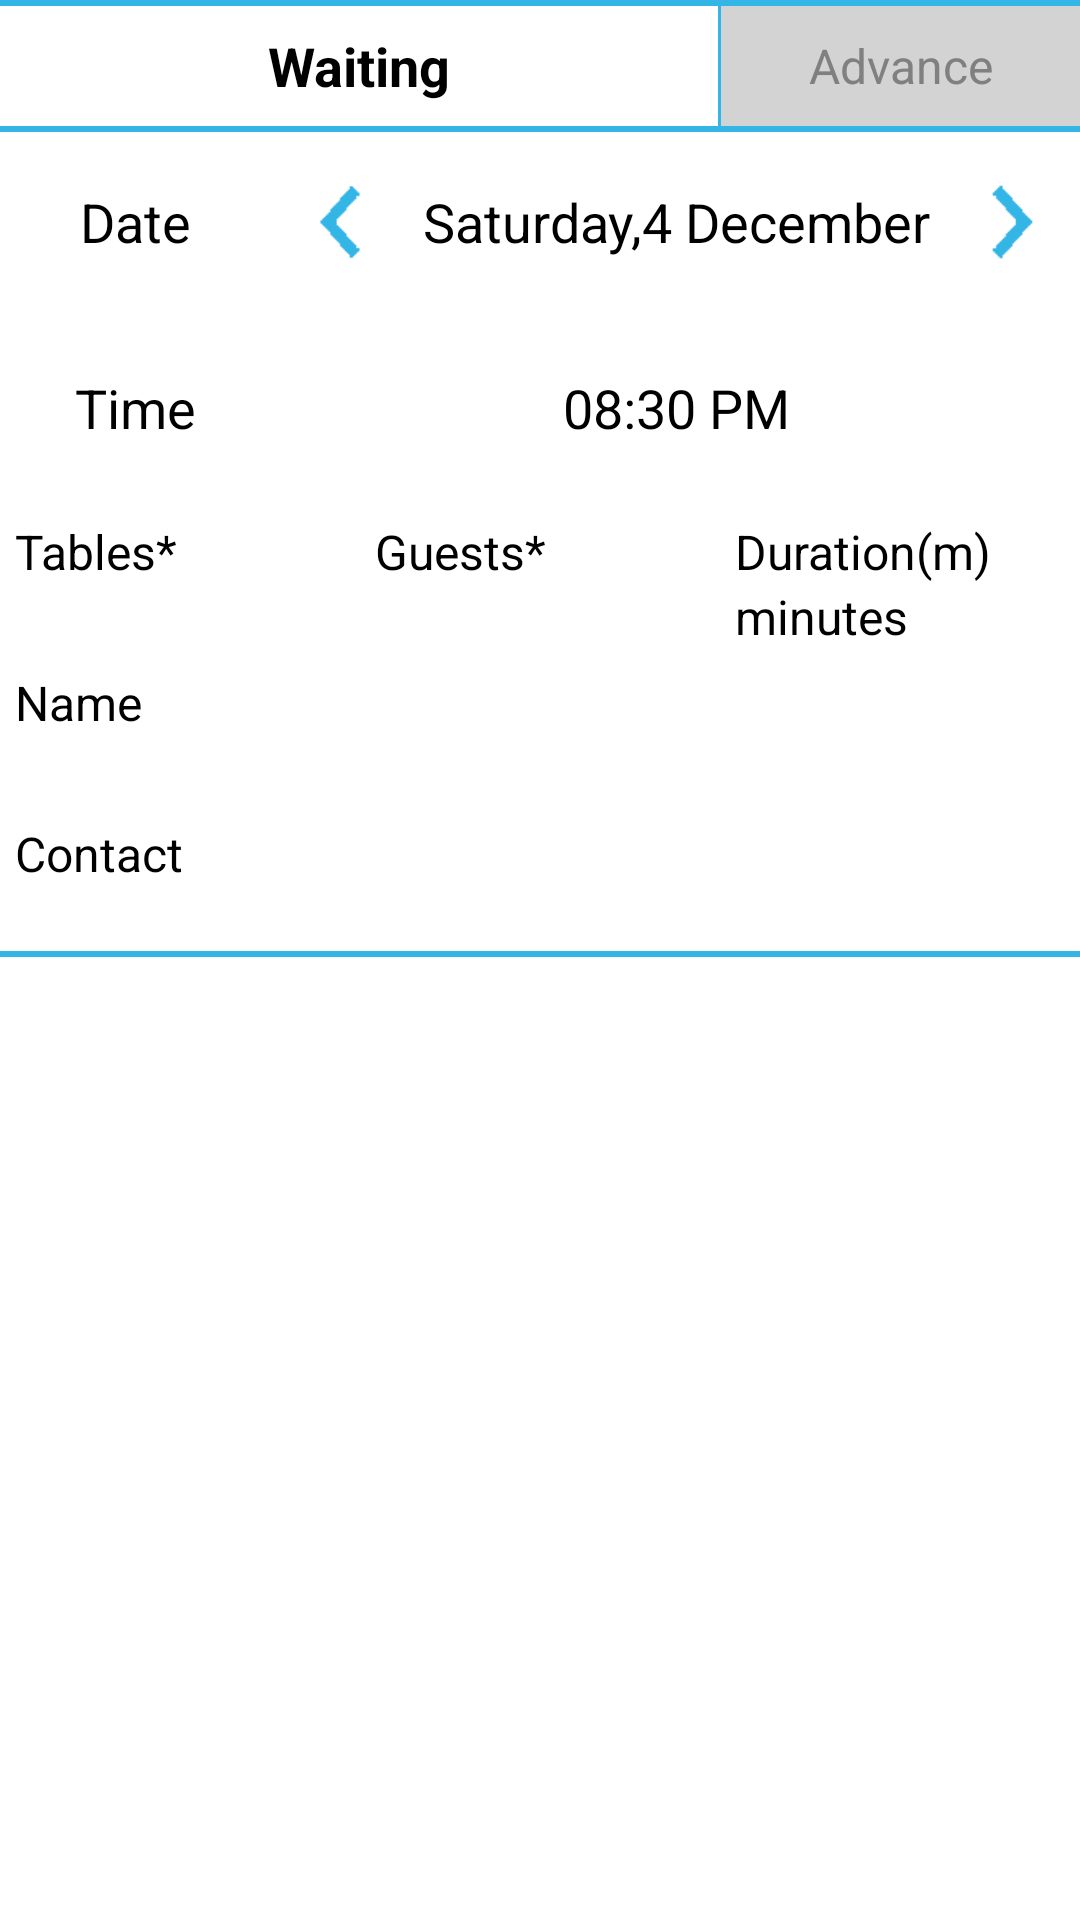

Named icons in this screenshot (1080 × 1920) and their bounding boxes, (x1=x1, y1=y1, x2=x2, y2=y2):
Dec: (x1=320, y1=186, x2=360, y2=258)
Inc: (x1=992, y1=185, x2=1033, y2=259)
